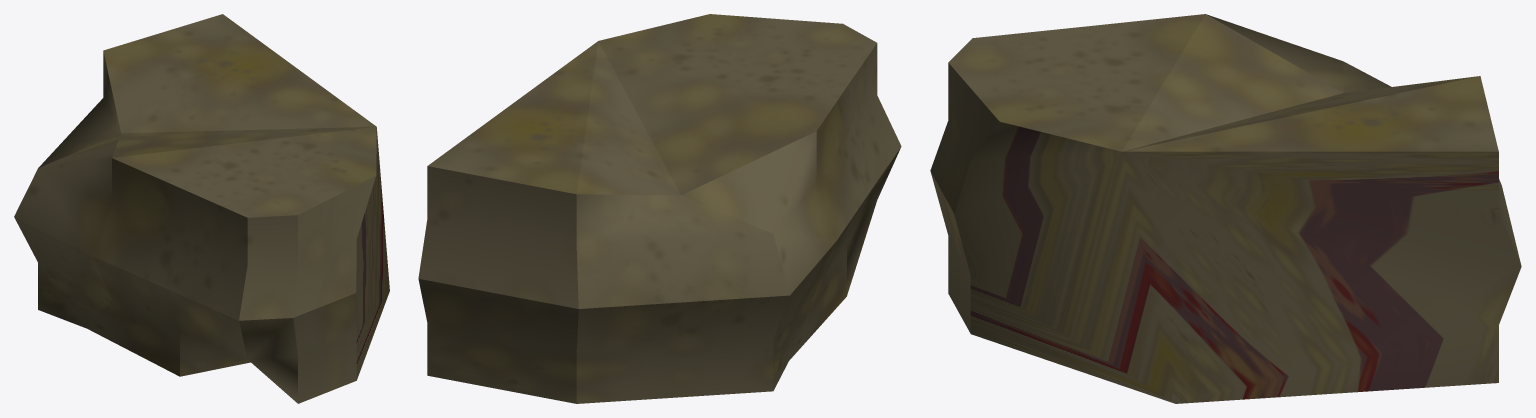
Rendered from ishi_02_3_1.fbx.
3 renders of one model, left to right at view 1: azimuth 30°, elevation 25°; view 2: azimuth 150°, elevation 25°; view 3: azimuth 270°, elevation 25°, orthographic. The views are drawn at different scales.
Visible parts, largest first — view 1: polySurface21; view 2: polySurface21; view 3: polySurface21.
Boxes of the visible parts, <box> form: polySurface21: <box>14,14,389,403</box>; polySurface21: <box>418,14,901,403</box>; polySurface21: <box>930,14,1521,403</box>.
Size of the model in its own units: 8.62 by 5.14 by 11.91.
1 material, 1 textured.
